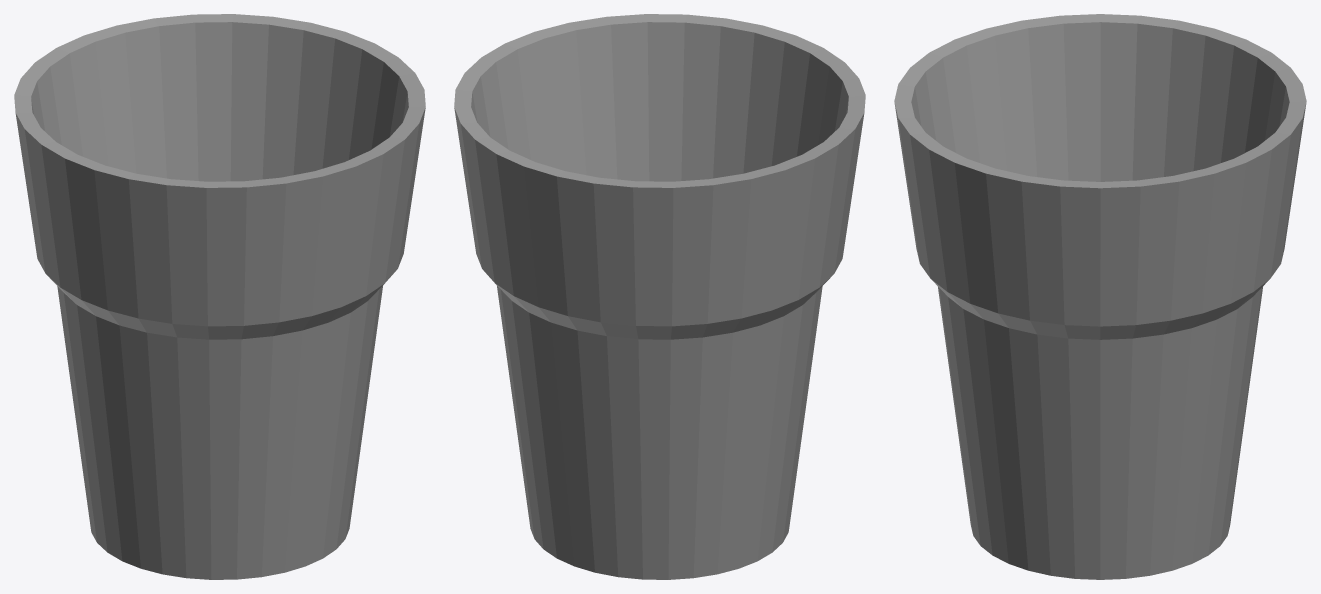
The model's file is gelas kumur.fbx.
The picture shows the model from 3 angles, left to right: view 1: azimuth 30°, elevation 25°; view 2: azimuth 150°, elevation 25°; view 3: azimuth 270°, elevation 25°; orthographic projection.
Visible parts, largest first — view 1: Cylinder; view 2: Cylinder; view 3: Cylinder.
Part boxes in pixels (bbox=[...]): Cylinder: bbox=[14, 14, 425, 579]; Cylinder: bbox=[454, 14, 865, 579]; Cylinder: bbox=[894, 14, 1306, 579].
Bounding box in the file's own units: 214 × 243 × 214.
1 material, 1 textured.
